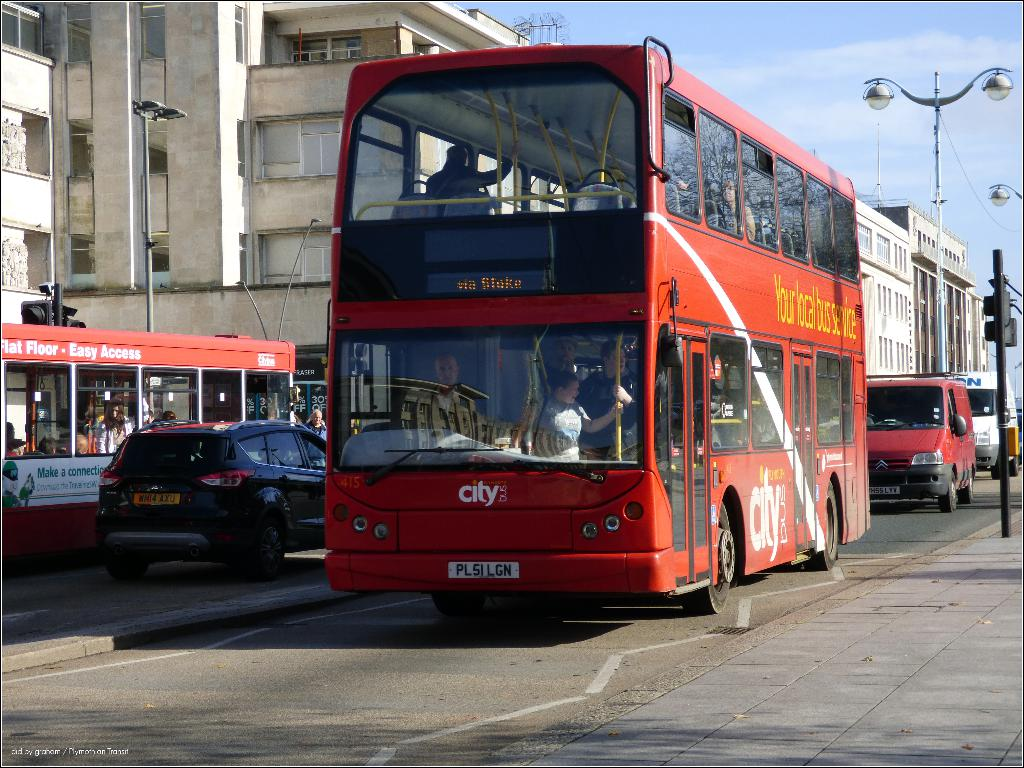Bus: (324, 28, 871, 618), (1, 325, 297, 556)
